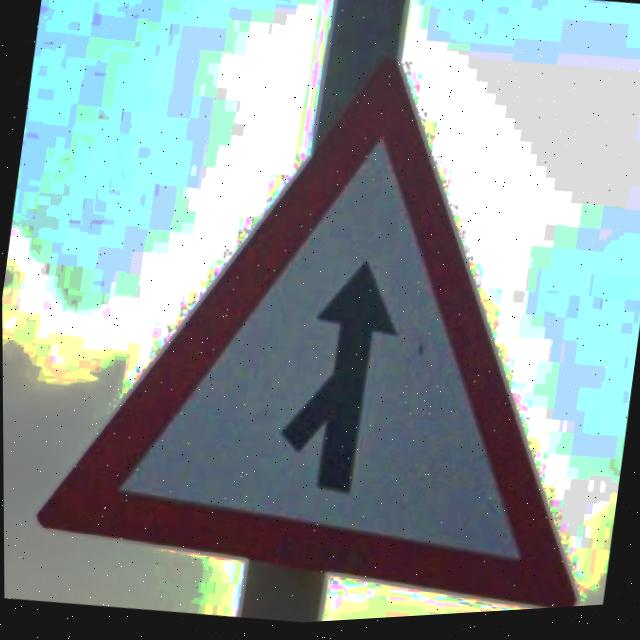leftmerge: (33, 64, 578, 615)
